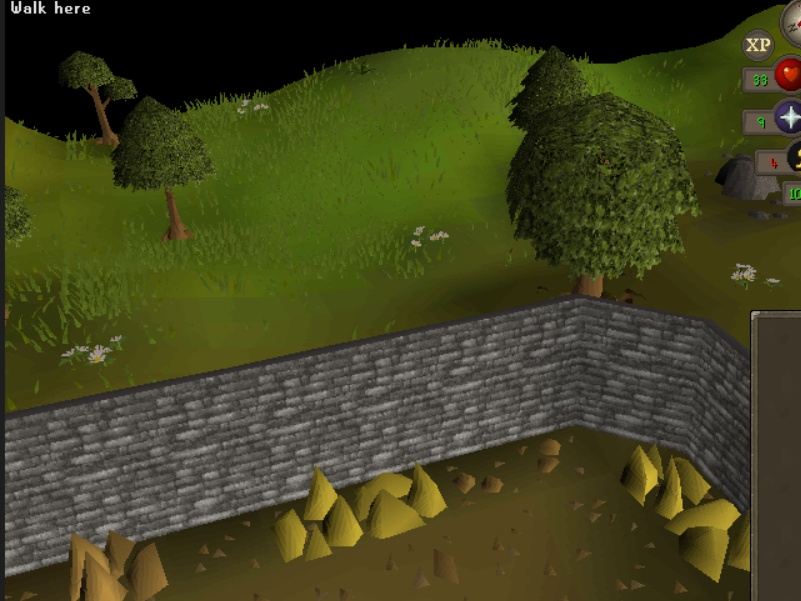clay: (56, 524, 163, 601)
gold: (272, 464, 364, 567), (357, 448, 449, 551), (622, 437, 718, 516), (668, 500, 757, 585)
